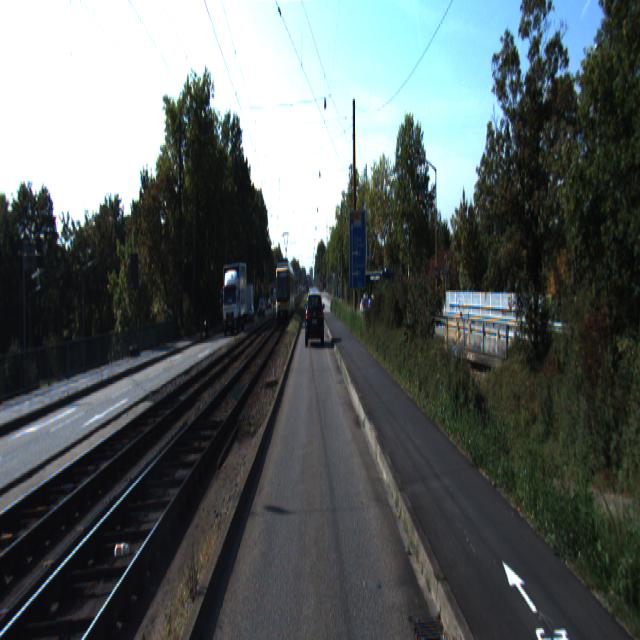Car: (220, 260, 248, 337), (359, 269, 396, 323), (306, 292, 323, 346)
